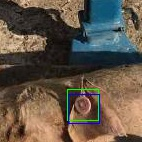text: (67, 89, 98, 120)
